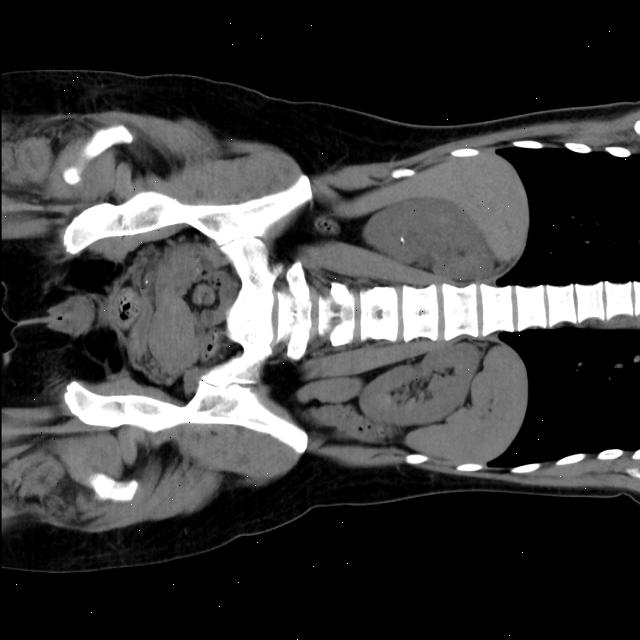kidneystone: (399, 236, 404, 244)
